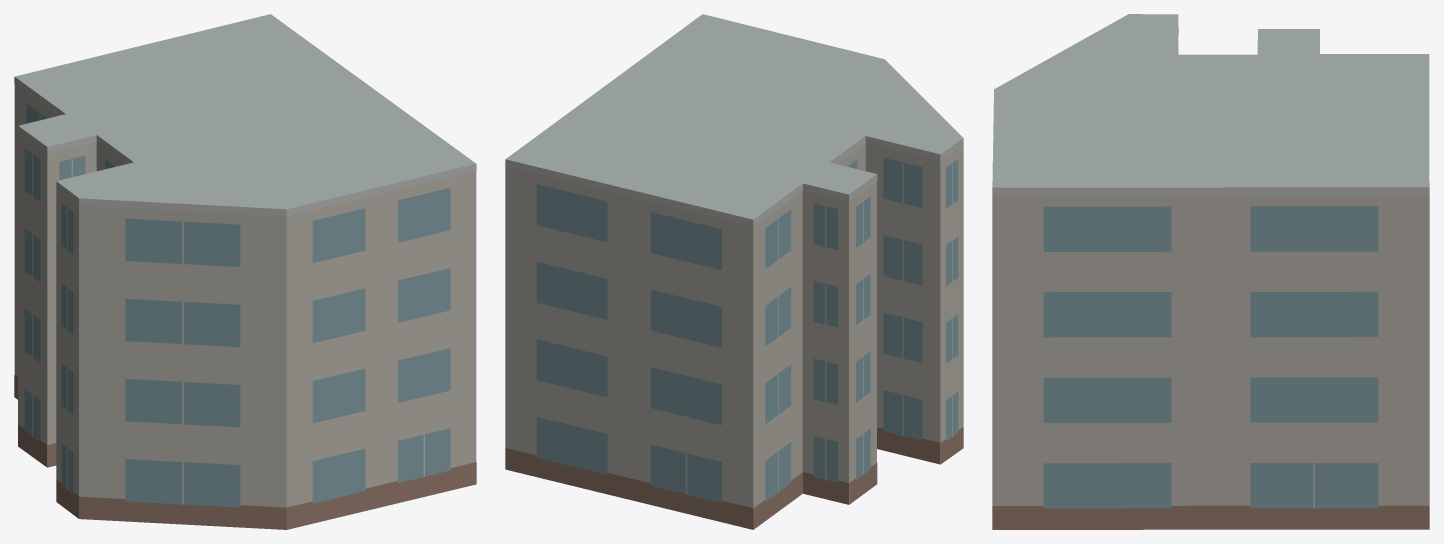
Rendered from survey-upis-32520356.glb.
The picture shows the model from 3 angles, left to right: view 1: azimuth 30°, elevation 25°; view 2: azimuth 150°, elevation 25°; view 3: azimuth 270°, elevation 25°; orthographic projection. The views are drawn at different scales.
Parts seen in each view (by area): view 1: survey-upis-32520356.tmp; view 2: survey-upis-32520356.tmp; view 3: survey-upis-32520356.tmp.
Part boxes in pixels (box(x1,y1,x2,y2)): survey-upis-32520356.tmp: box(14, 14, 476, 529); survey-upis-32520356.tmp: box(505, 14, 963, 529); survey-upis-32520356.tmp: box(992, 14, 1429, 529).
Size of the model in its own units: 11.99 by 11 by 12.75.
